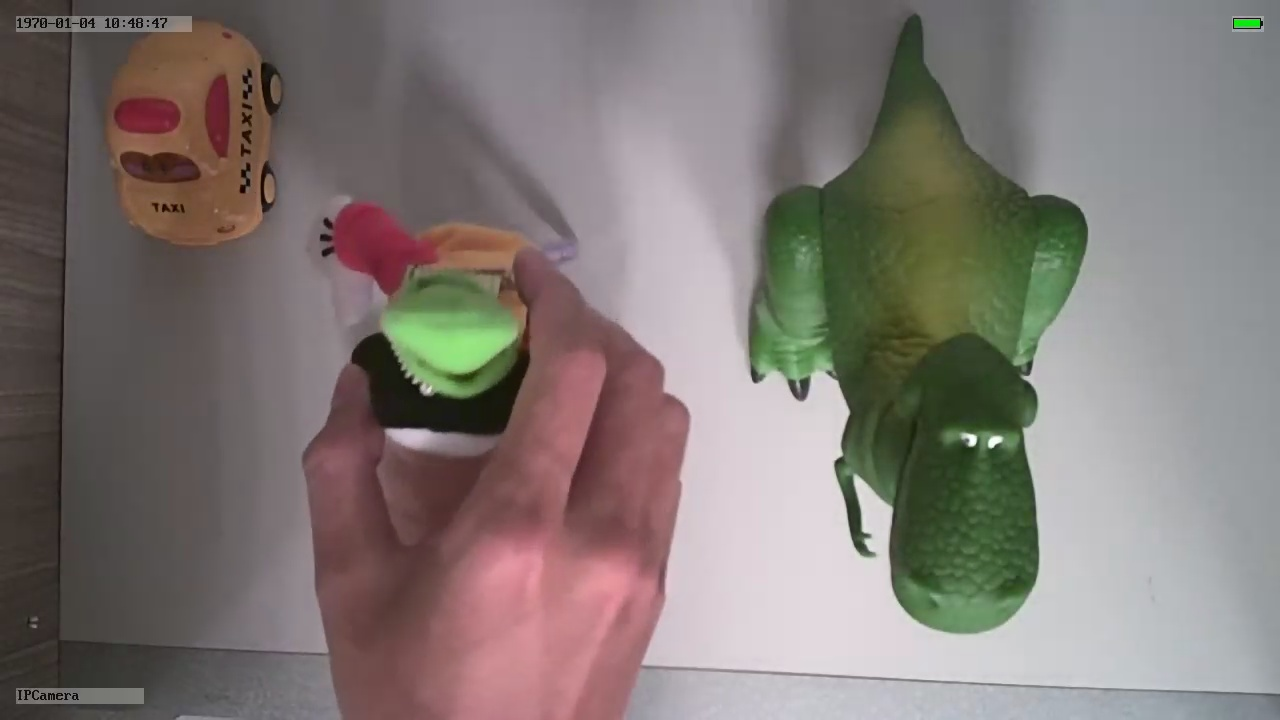car: (107, 21, 282, 246)
rex: (746, 87, 1091, 634)
